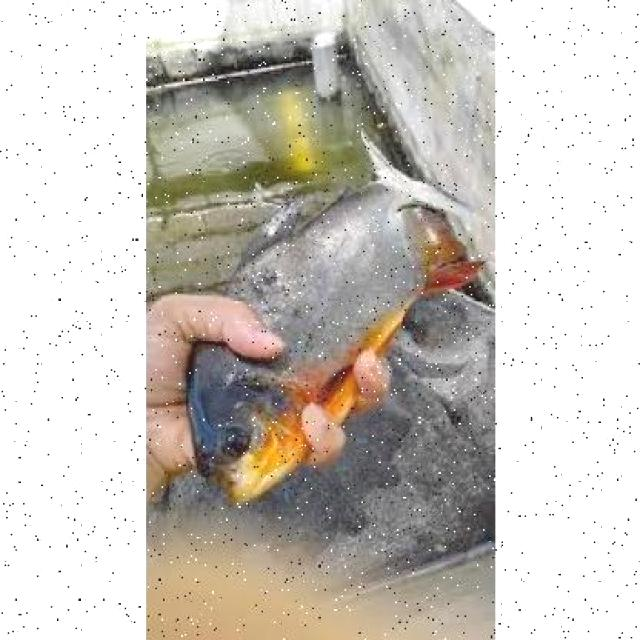ikan-pacu: (189, 130, 466, 507)
